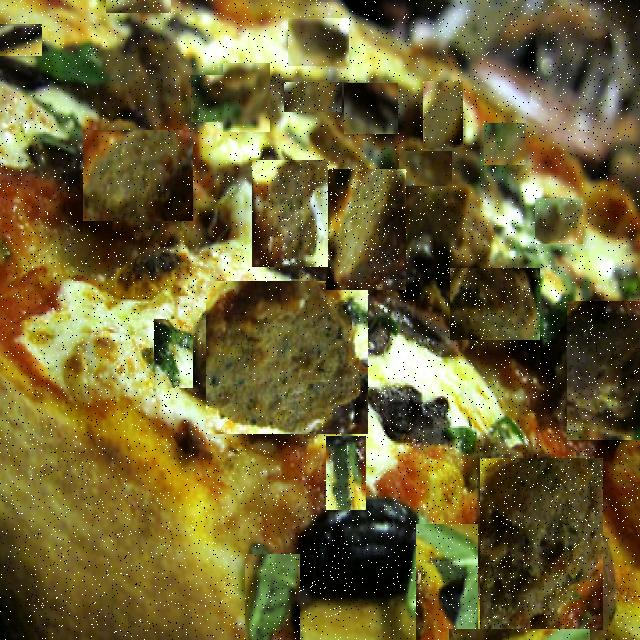Basil: (416, 524, 478, 640), (245, 554, 300, 640), (326, 436, 366, 511), (42, 44, 108, 85), (154, 319, 193, 388), (539, 289, 571, 343), (449, 629, 590, 640), (191, 75, 224, 122)
Beef: (206, 281, 368, 434), (480, 458, 603, 630), (567, 301, 640, 440), (83, 130, 193, 221), (326, 170, 406, 292), (252, 160, 328, 267), (109, 27, 192, 119), (450, 268, 540, 340), (408, 196, 491, 270), (223, 63, 270, 132), (288, 18, 349, 66), (423, 81, 463, 148), (535, 198, 583, 244), (399, 151, 452, 186), (484, 123, 526, 165), (284, 82, 342, 112), (106, 0, 171, 13)
Olives: (294, 506, 454, 595), (367, 390, 452, 448), (344, 83, 398, 134), (0, 50, 53, 86), (406, 238, 430, 298), (0, 24, 42, 56)
